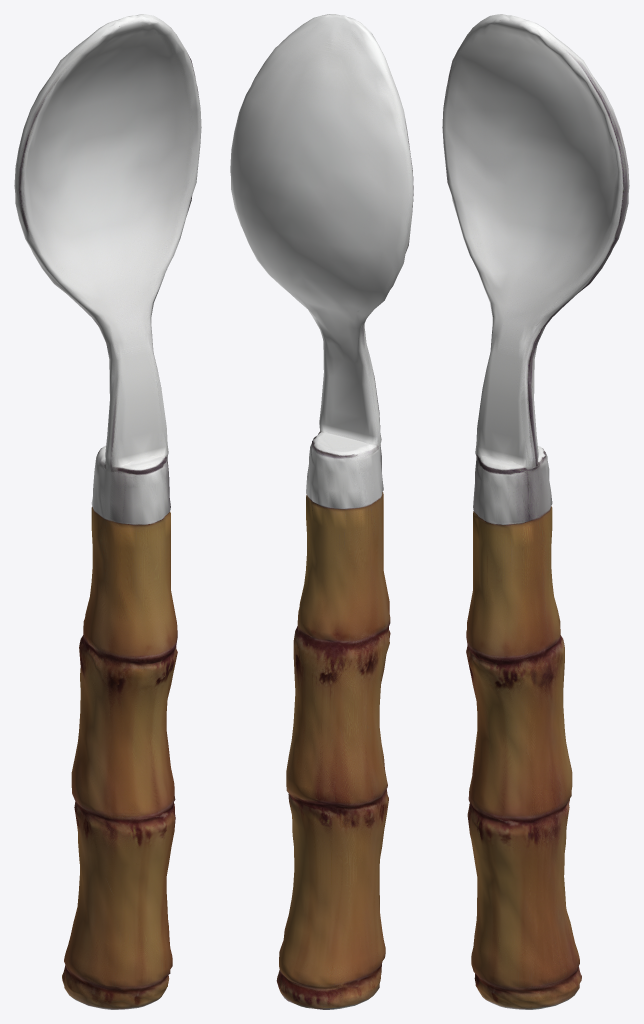
The model's file is Bamboo_Tea_Spoon_0225003521_texture.glb.
3 views of the same model, side by side, from view 1: azimuth 30°, elevation 25°; view 2: azimuth 150°, elevation 25°; view 3: azimuth 330°, elevation 25° (orthographic).
Visible parts, largest first — view 1: Mesh_0.001; view 2: Mesh_0.001; view 3: Mesh_0.001.
Boxes of the visible parts, left/top/right/bottom form: Mesh_0.001: left=14, top=14, right=201, bottom=1009; Mesh_0.001: left=230, top=14, right=413, bottom=1009; Mesh_0.001: left=442, top=14, right=629, bottom=1009.
Bounding box in the file's own units: 0.0297 × 0.1524 × 0.0191.
1 material, 1 textured.
